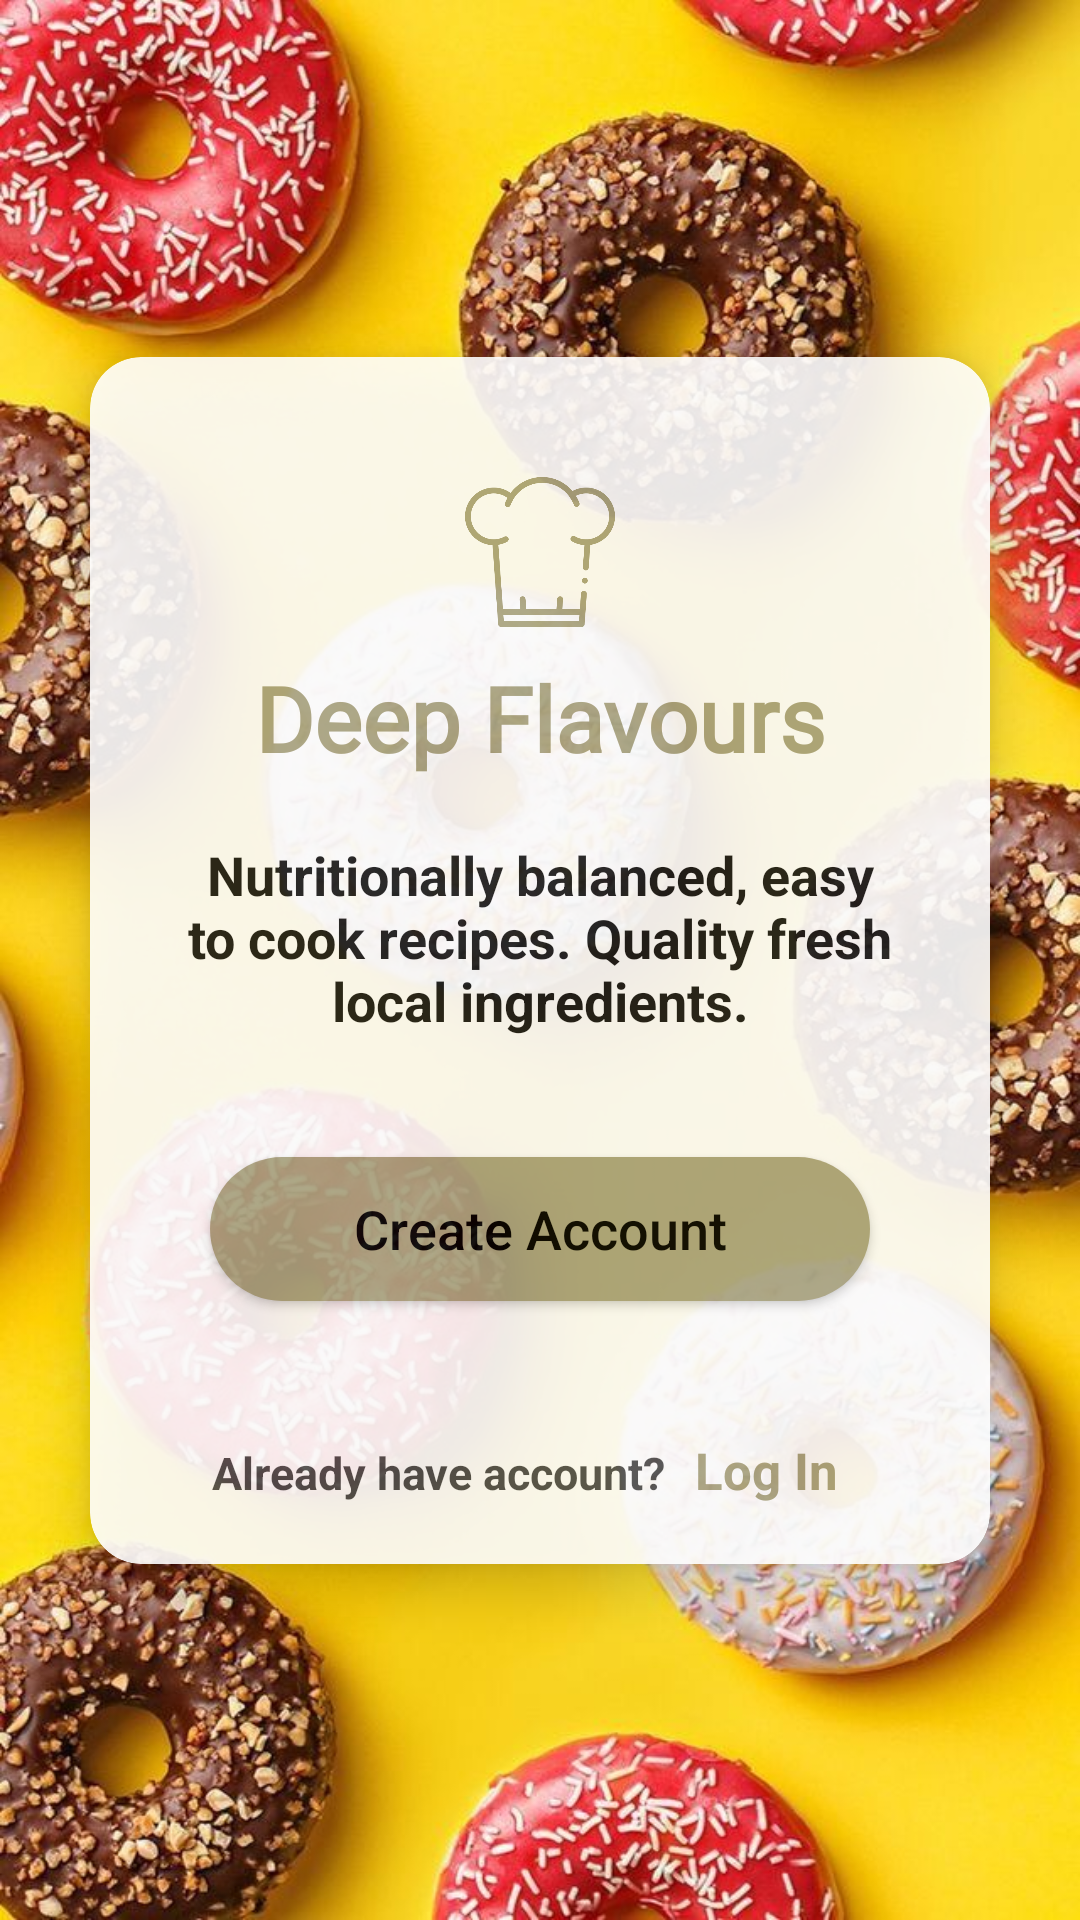

Named icons in this screenshot (1080*1920) and their centers, (x,y):
chefshat: (540,552)
